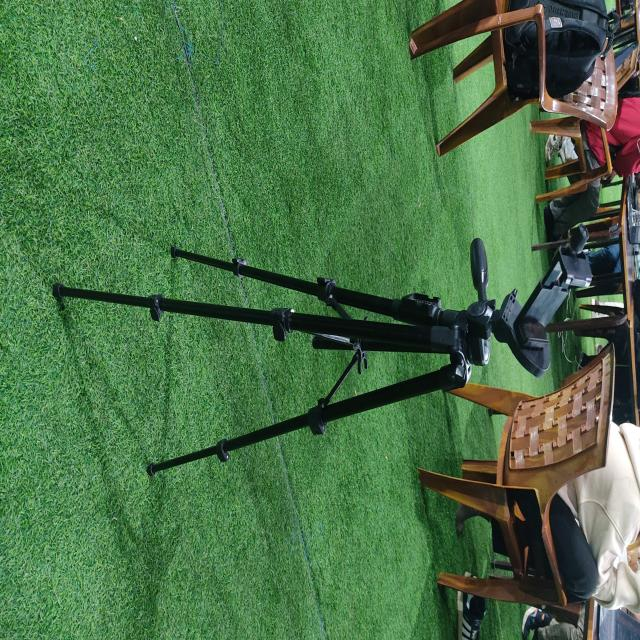Camer Stand: (51, 232, 593, 479)
Chair: (417, 340, 616, 639)
